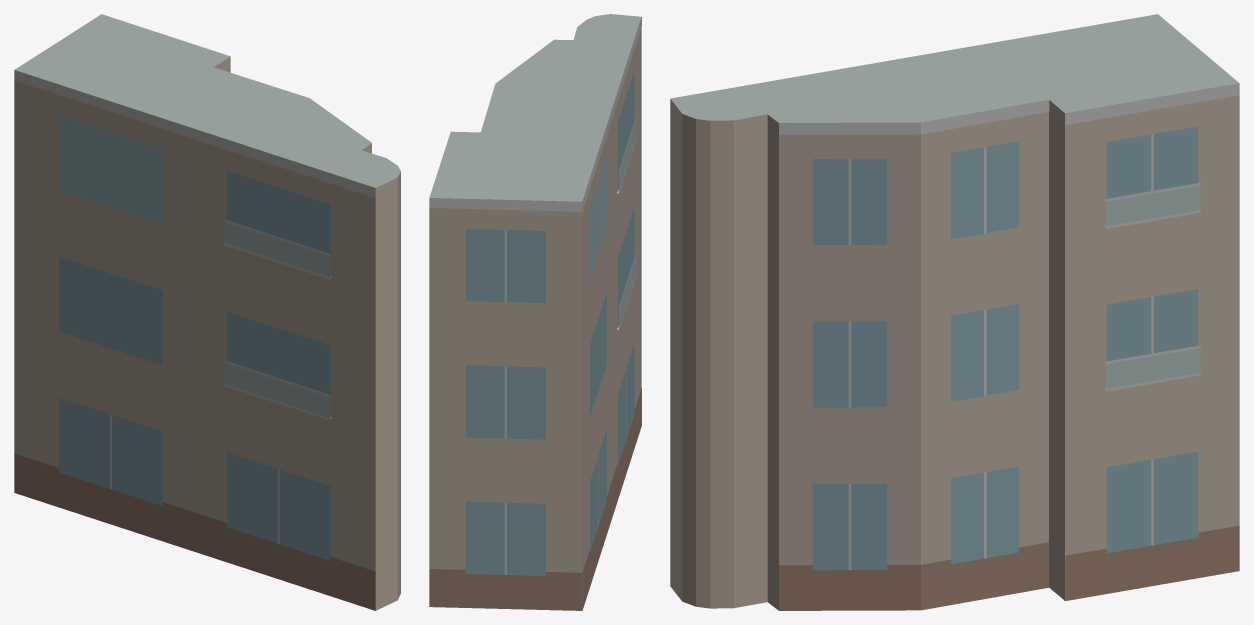
File: survey-upis-32503424.glb
The picture shows the model from 3 angles, left to right: view 1: azimuth 30°, elevation 25°; view 2: azimuth 150°, elevation 25°; view 3: azimuth 270°, elevation 25°; orthographic projection. The views are drawn at different scales.
Visible parts, largest first — view 1: survey-upis-32503424.tmp; view 2: survey-upis-32503424.tmp; view 3: survey-upis-32503424.tmp.
Part boxes in pixels (bbox=[...]): survey-upis-32503424.tmp: bbox=[14, 14, 400, 610]; survey-upis-32503424.tmp: bbox=[429, 14, 641, 610]; survey-upis-32503424.tmp: bbox=[670, 14, 1239, 610].
Bounding box in the file's own units: 4.75 × 9.9 × 10.48.
